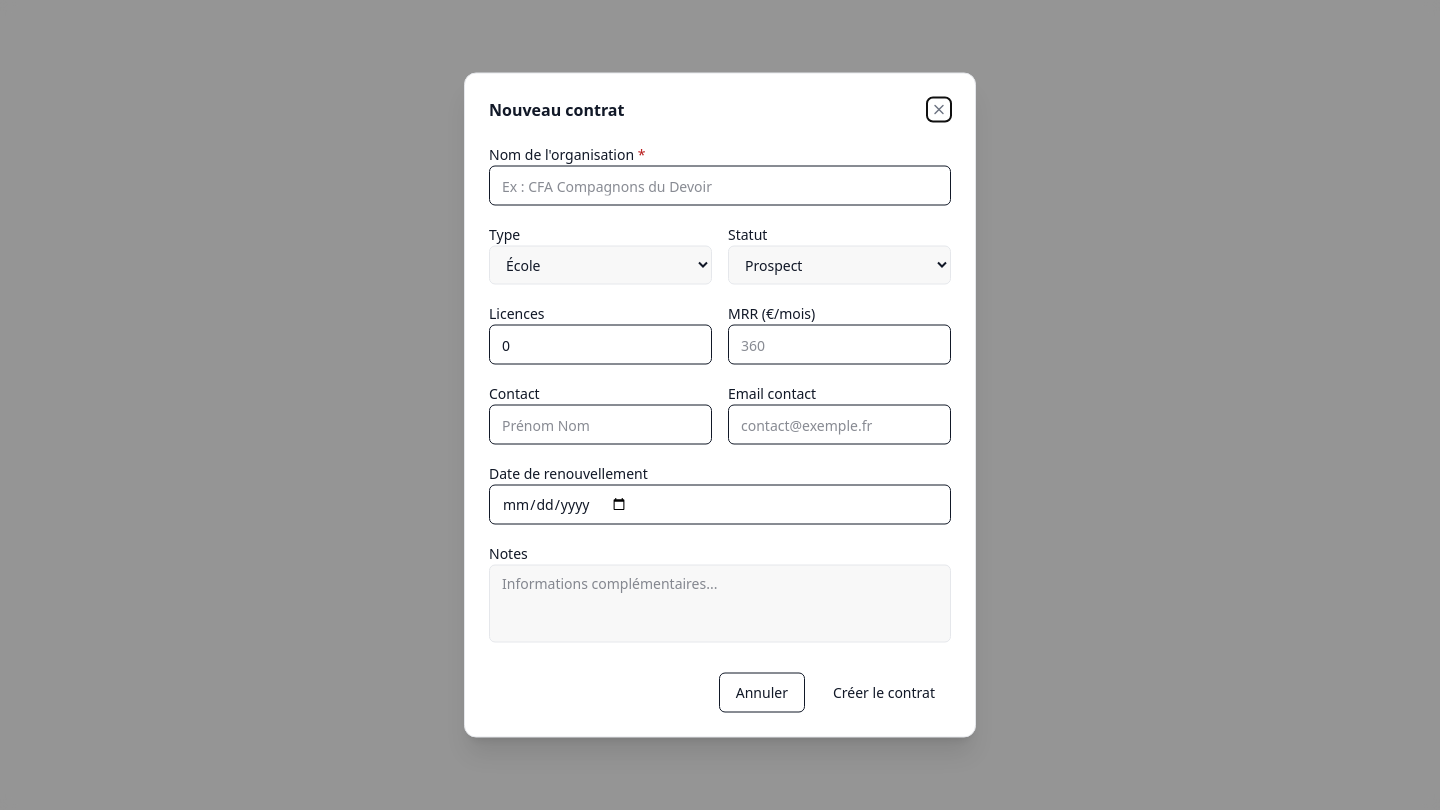
Scenario: ContractForm › valide que organization_name est requis
Submit without filling name
What coordinates should you click on to do the following:
click the button "Créer le contrat"
I would click on:
 (884, 692)
Its box is 817,672 -> 951,712.
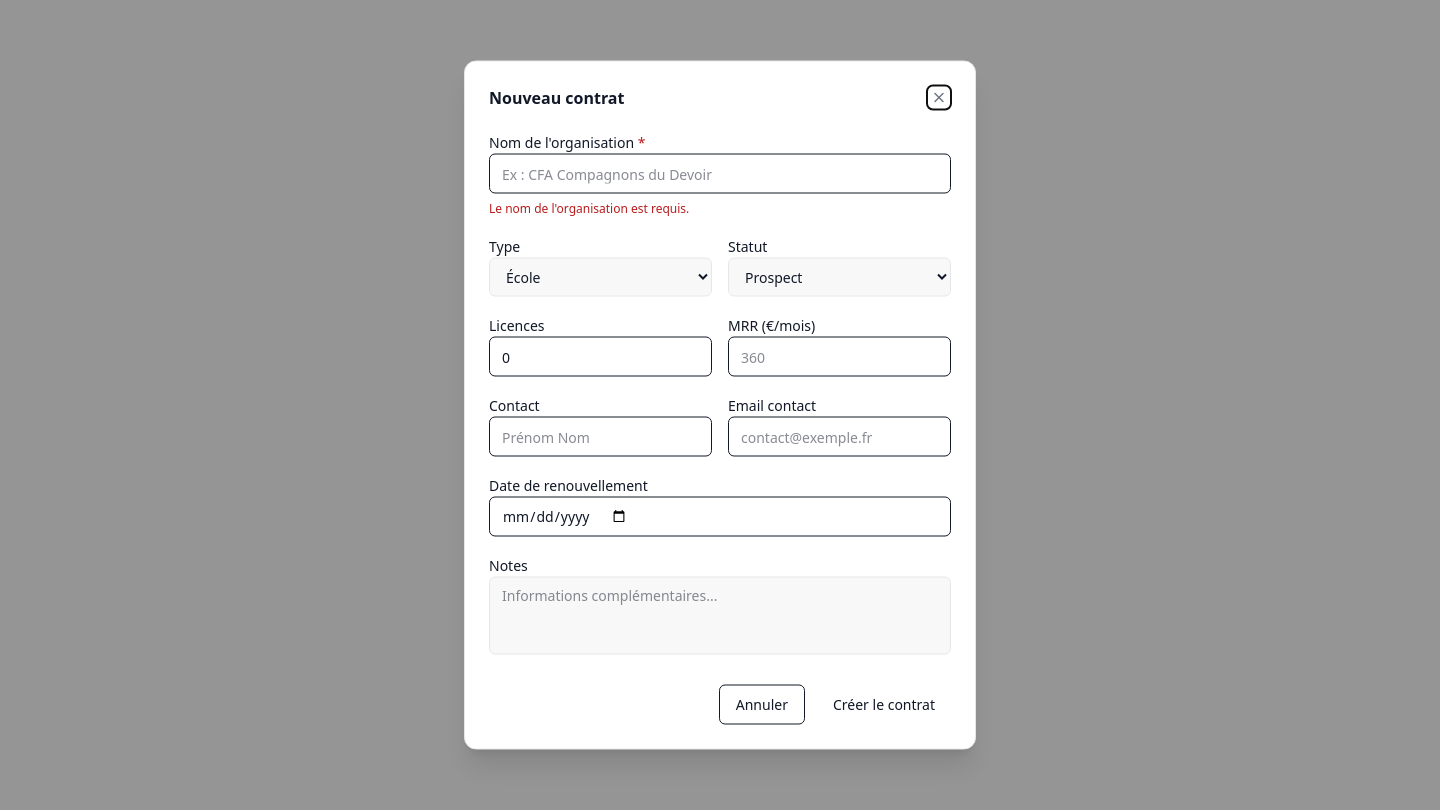
Check: the text "Le nom de l'organisation est requis." is shown, box 489,200 -> 689,216
